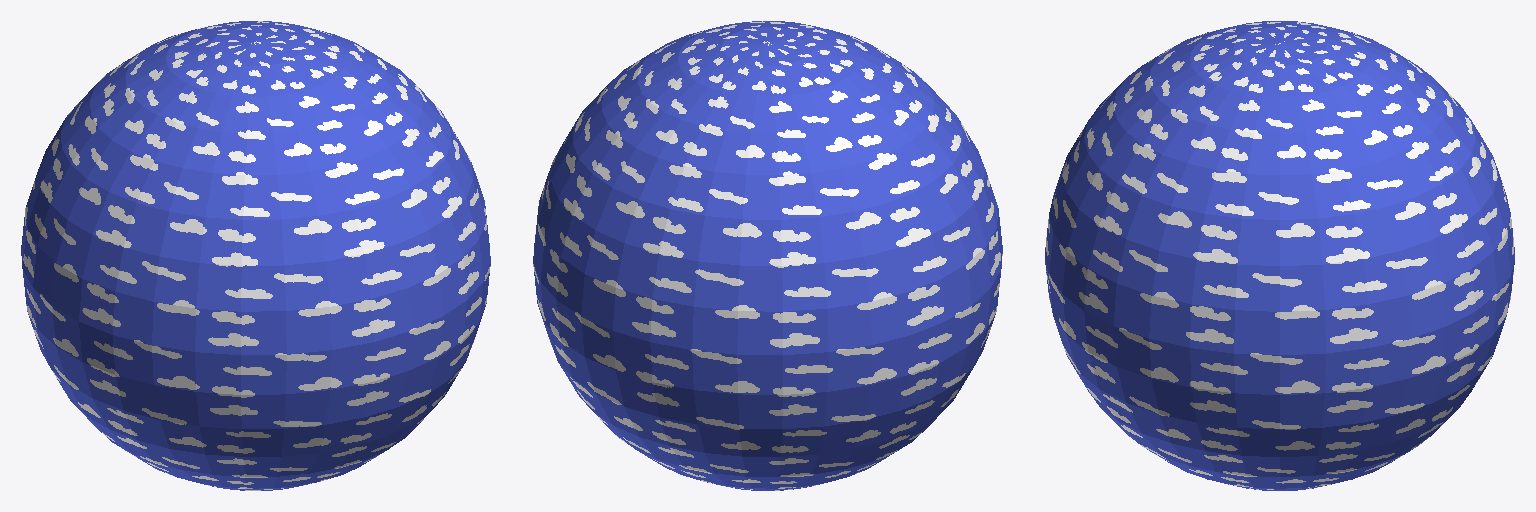
3 views of the same model, side by side, from view 1: azimuth 30°, elevation 25°; view 2: azimuth 150°, elevation 25°; view 3: azimuth 270°, elevation 25° (orthographic).
Parts seen in each view (by area): view 1: Sphere; view 2: Sphere; view 3: Sphere.
Part boxes in pixels (x1,y1,x2,y2): Sphere: (21,21,490,490); Sphere: (533,21,1002,490); Sphere: (1045,21,1514,490).
Size of the model in its own units: 2 by 2 by 2.
Materials: 1 (1 with a texture image).